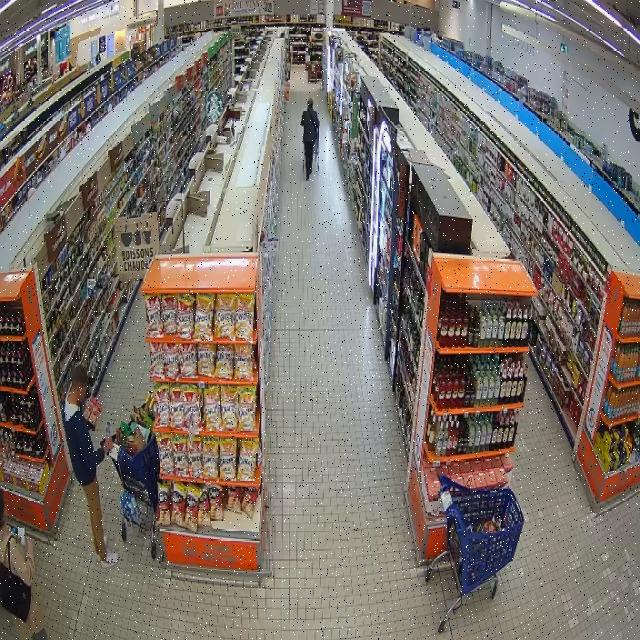article: (82, 397, 103, 426)
bags: (0, 536, 30, 622)
hands: (103, 437, 113, 454), (26, 538, 33, 556)
person: (64, 365, 118, 566), (0, 489, 35, 586), (301, 98, 319, 179)
